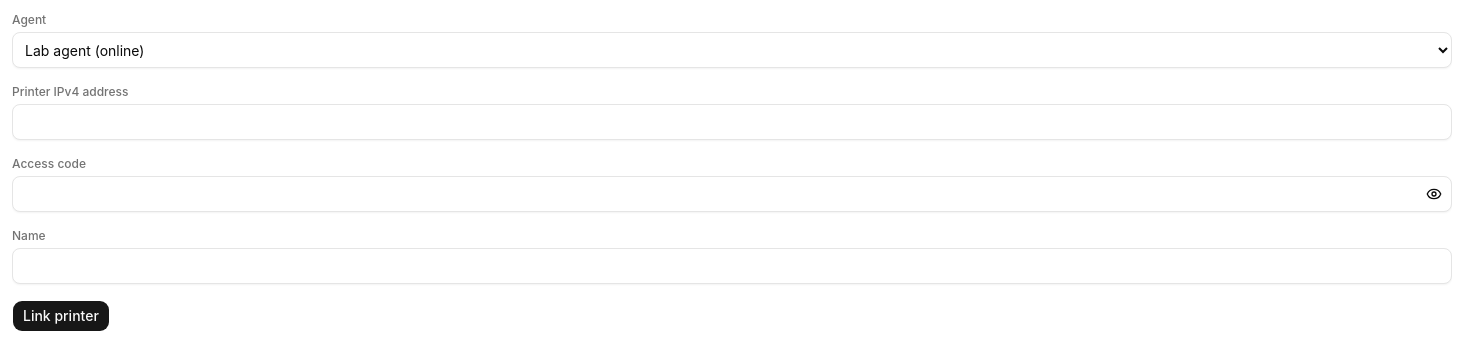
Scenario: LinkPrinterMachineForm › toggles access-code visibility without changing its value
Type "SECRET-LINK-CODE" into the password field labelled "Access code".
click(732, 194); type("SECRET-LINK-CODE")  # box 12,176 -> 1452,212
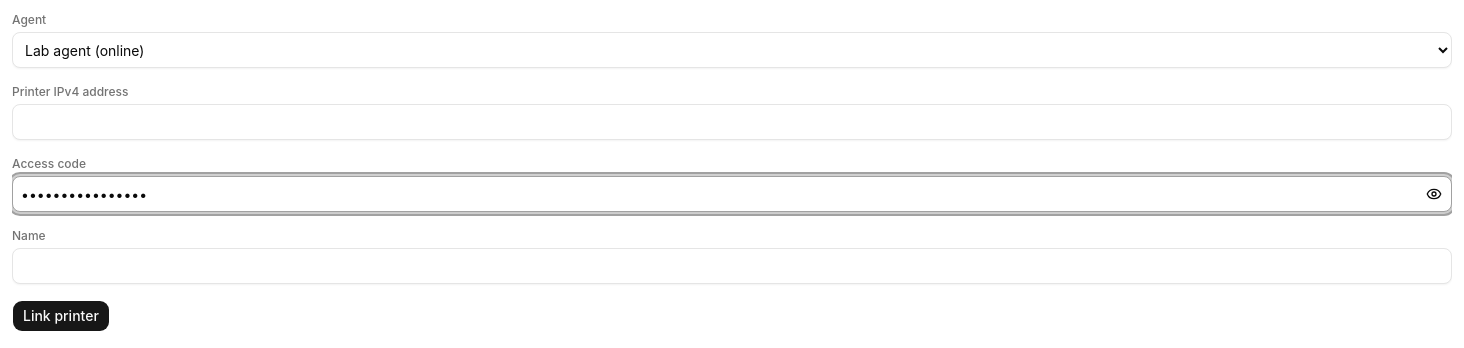
Click the button named "Show access code".
click(1434, 194)  # box 1420,180 -> 1448,208
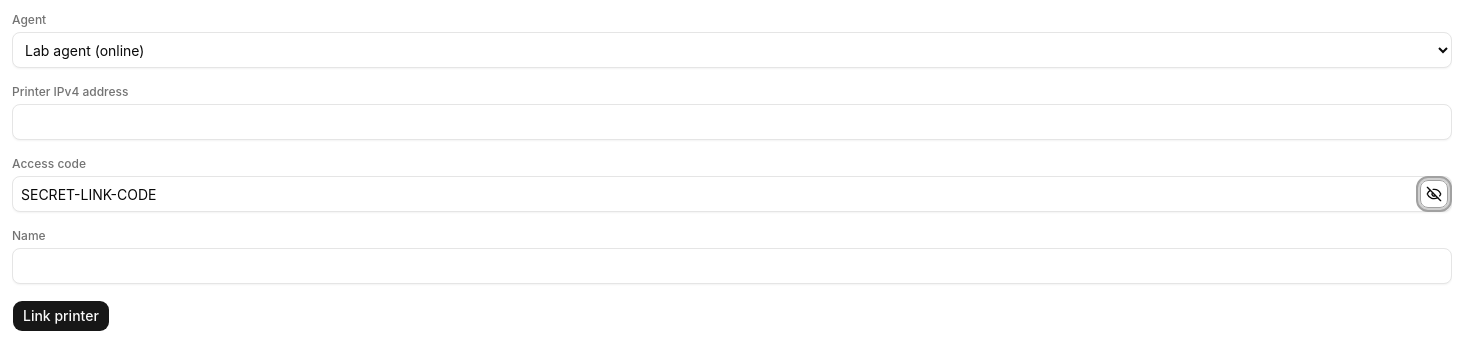
Now the field labelled "Access code" shows its text, box 12,176 -> 1452,212
Click the button named "Hide access code".
click(1434, 194)  # box 1420,180 -> 1448,208
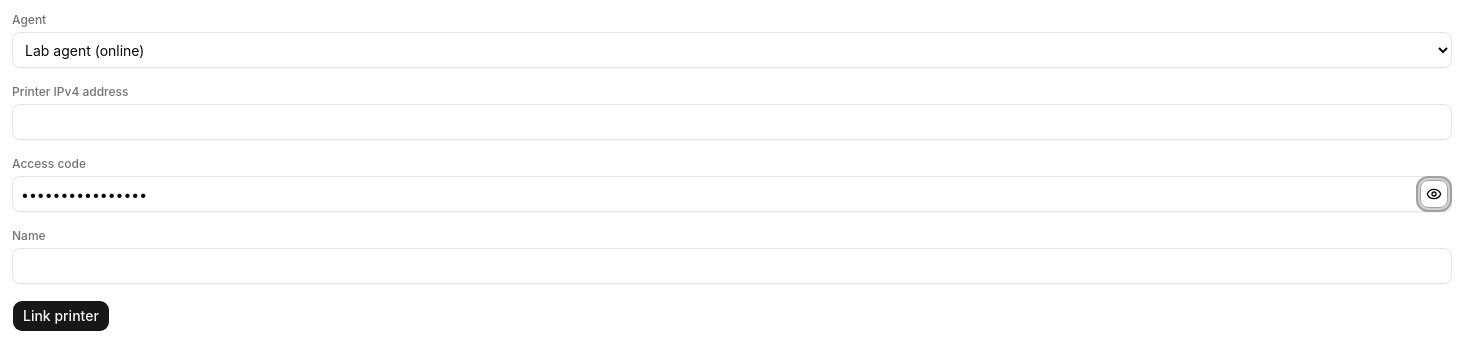
Now the password field labelled "Access code" hides its text, box 12,176 -> 1452,212
